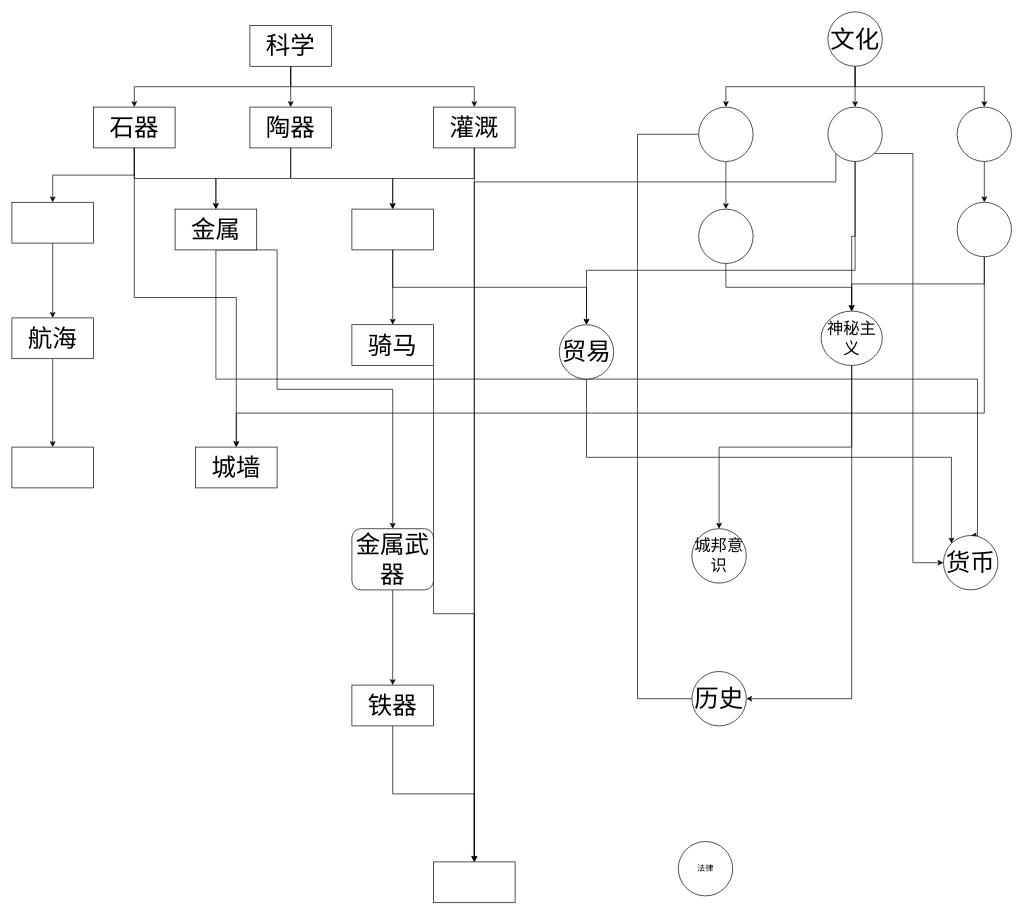
Image size: 1023x915. Some labels were removed from this diagram. Here are the shapes that lost their labels. From the top down, the centre of each, then its label:
At pixel 725 134: "文字".
At pixel 854 134: "私有制".
At pixel 984 134: "城市".
At pixel 52 222: "木器".
At pixel 392 229: "畜牧".
At pixel 725 236: "自然崇拜".
At pixel 984 229: "共同认同".
At pixel 52 467: "渔业".
At pixel 474 882: "农业".
